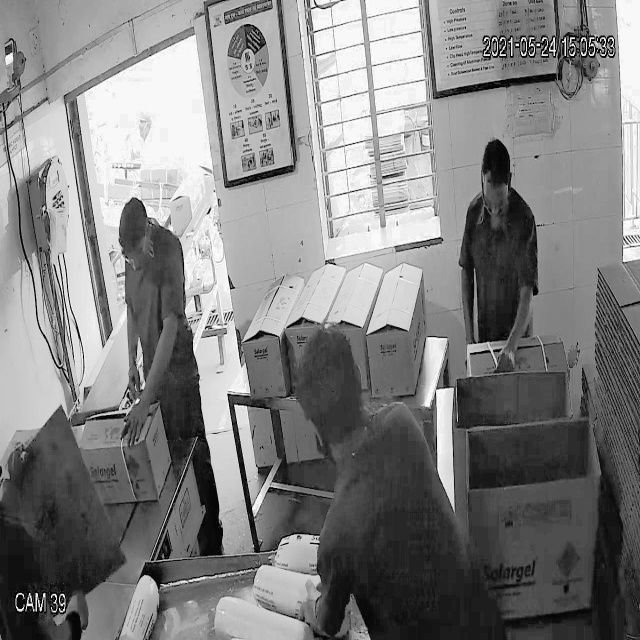Gafas: (478, 176, 512, 215), (118, 237, 151, 269)
